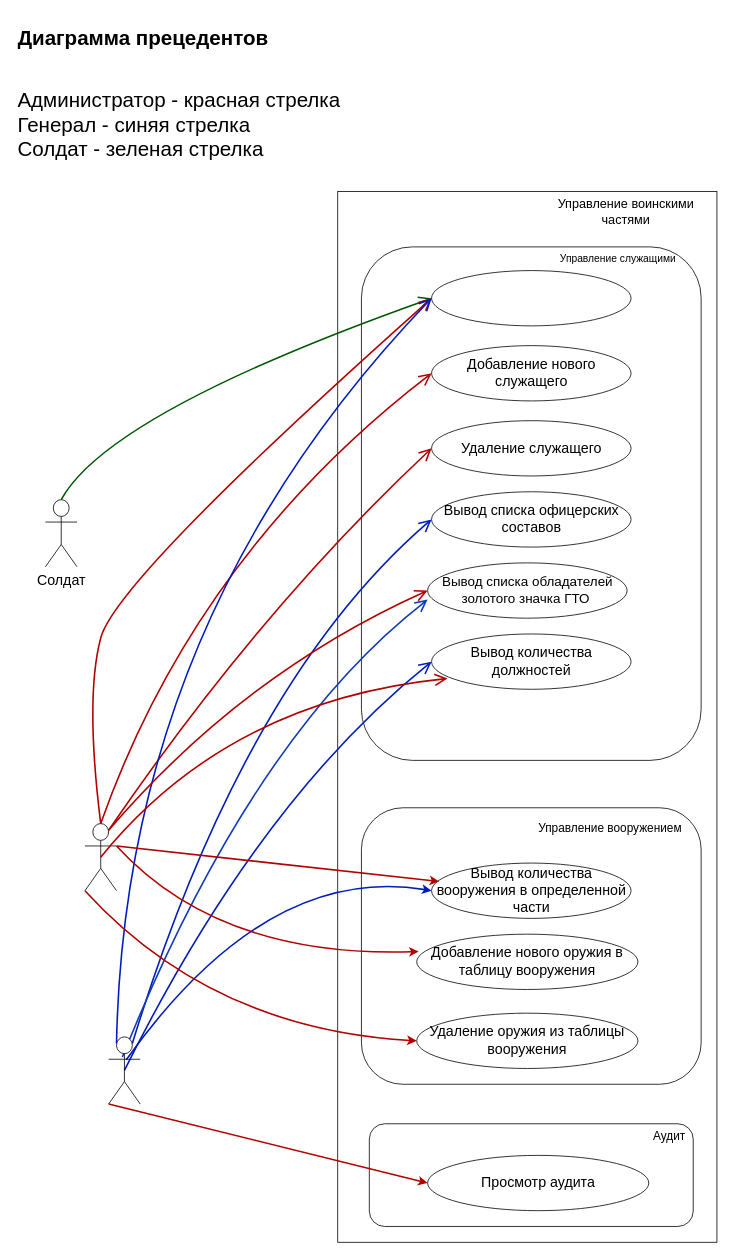
The diagram is 731 pixels wide and 1256 high, and some of its shapes have lost their labels. Each missing label, with the centre of its shape:
"Администратор" goes at pixel 100 857.
"Генерал" goes at pixel 124 1070.
"Просмотри информации о служащих" goes at pixel 531 298.
